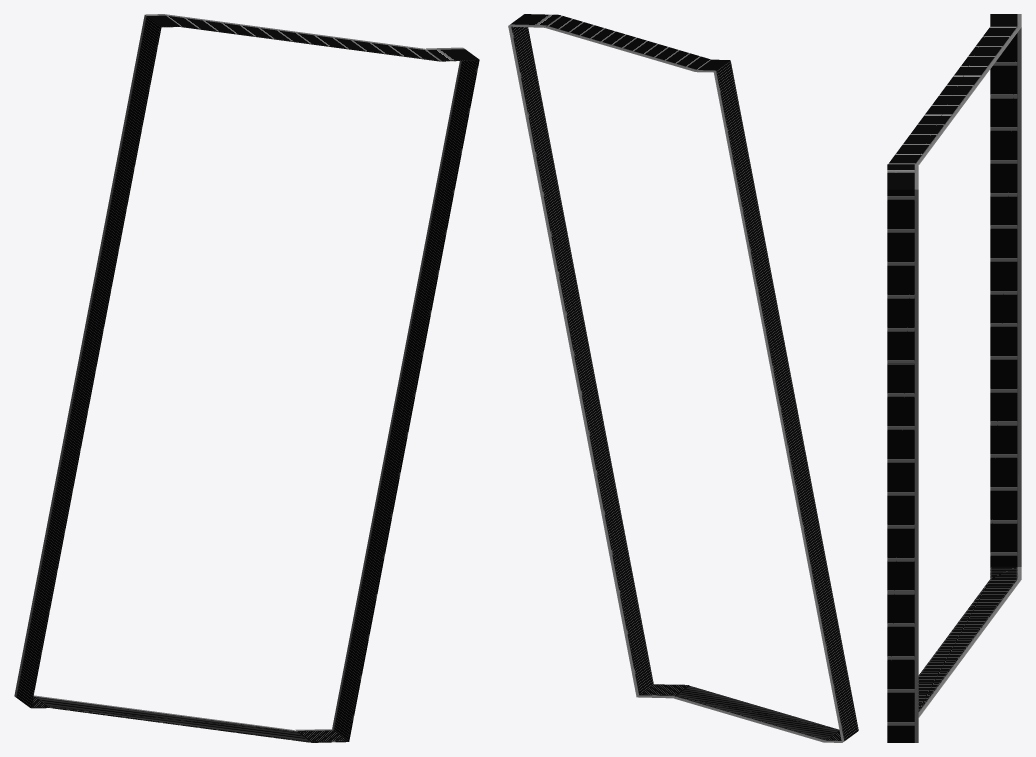
The model's file is _0TRIBUENE_02_026_SUB0_Scene.192.obj.
3 views of the same model, side by side, from view 1: azimuth 30°, elevation 25°; view 2: azimuth 150°, elevation 25°; view 3: azimuth 270°, elevation 25° (orthographic). The views are drawn at different scales.
Visible parts, largest first — view 1: _0TRIBUENE_02_026_SUB0_Scene.192; view 2: _0TRIBUENE_02_026_SUB0_Scene.192; view 3: _0TRIBUENE_02_026_SUB0_Scene.192.
Part boxes in pixels (x1,y1,x2,y2): _0TRIBUENE_02_026_SUB0_Scene.192: (14, 14, 479, 742); _0TRIBUENE_02_026_SUB0_Scene.192: (508, 14, 858, 742); _0TRIBUENE_02_026_SUB0_Scene.192: (887, 14, 1021, 742).
Bounding box in the file's own units: 20.54 × 35.23 × 6.42.
